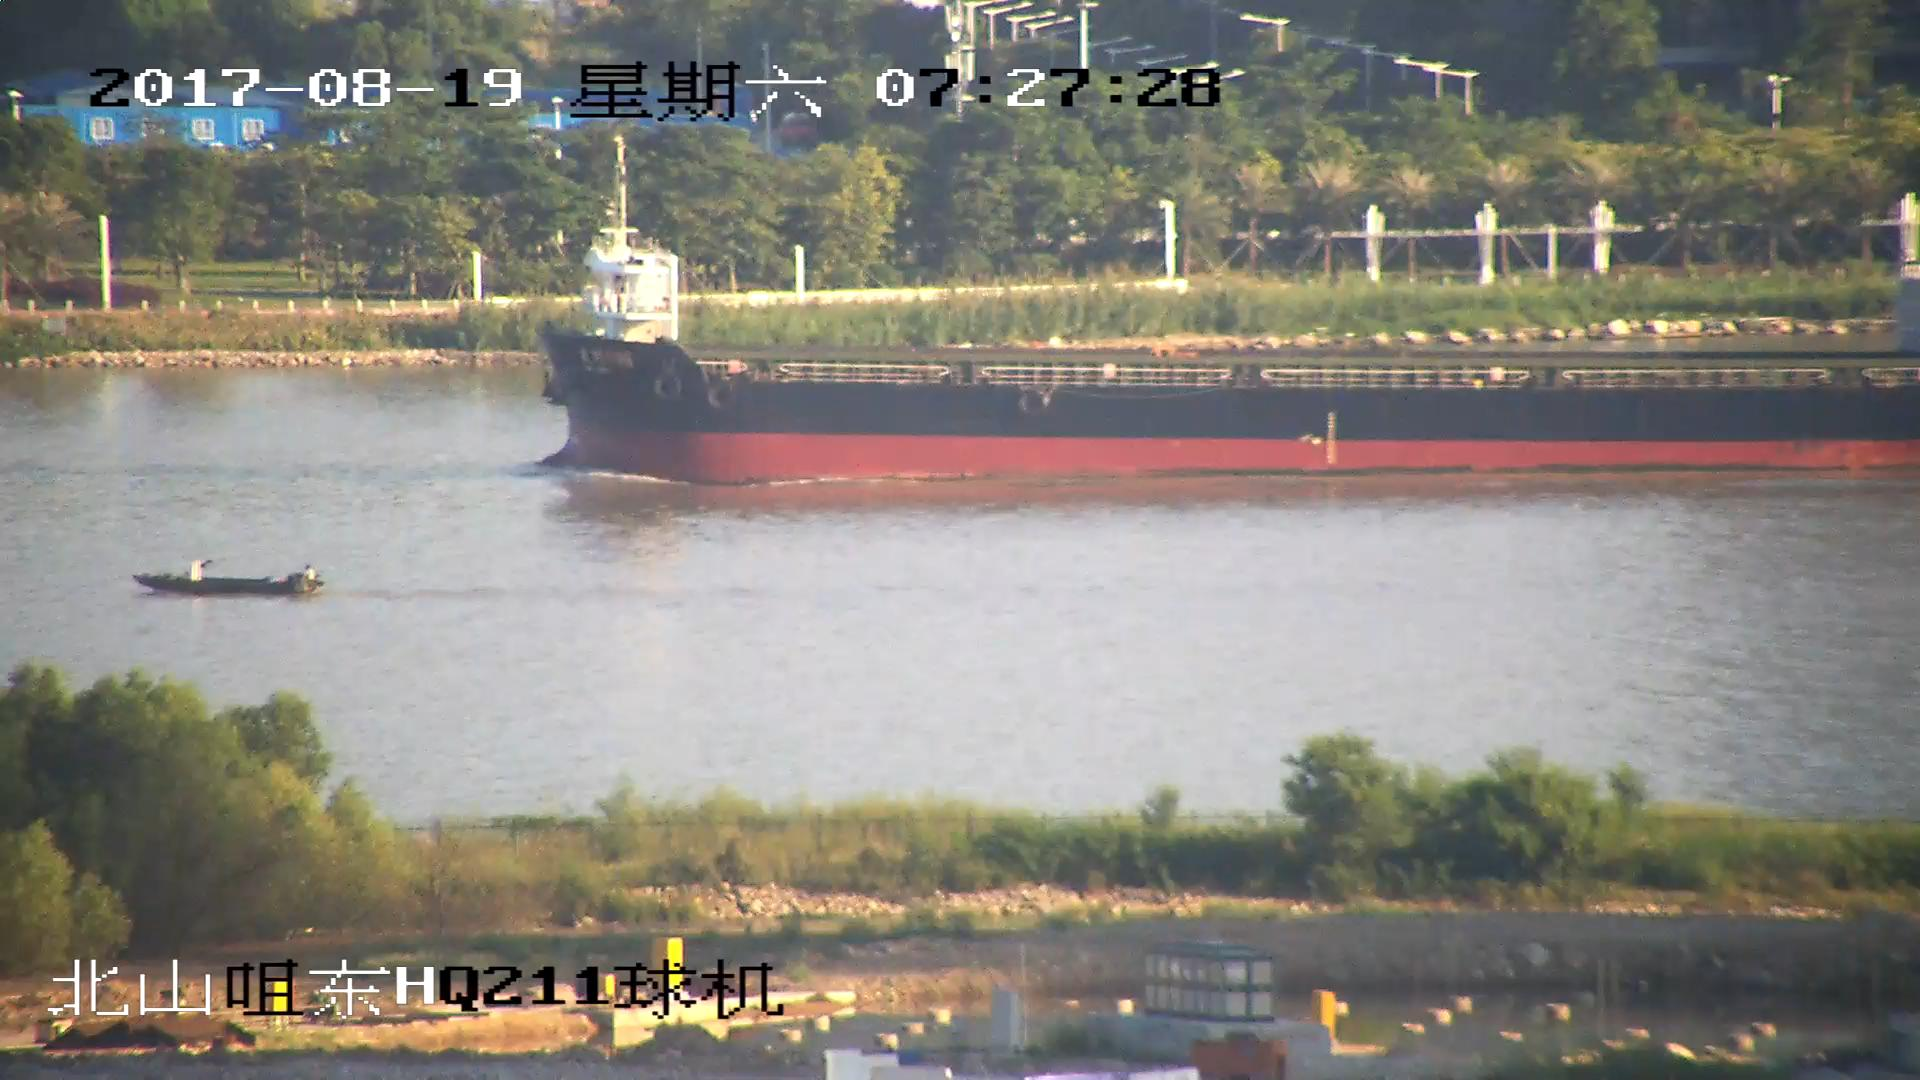fishing boat: (135, 554, 325, 606)
general cargo ship: (539, 206, 1920, 479)
